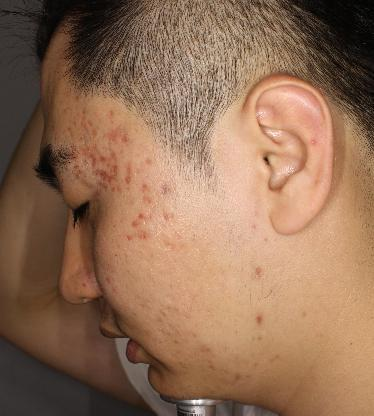acne scar: (152, 179, 176, 200), (248, 258, 267, 278), (251, 309, 271, 326), (159, 207, 174, 223), (128, 209, 140, 229), (138, 227, 152, 244), (134, 204, 146, 220), (122, 229, 134, 244)
